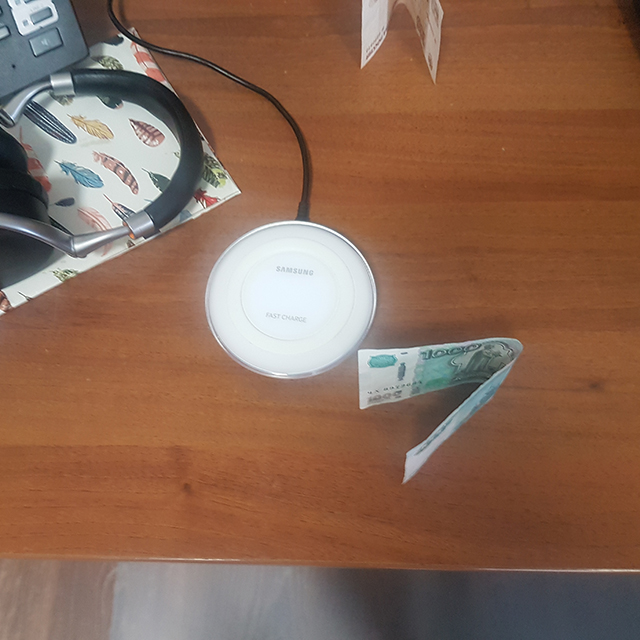banknotes: (359, 334, 523, 485), (355, 1, 447, 85)
